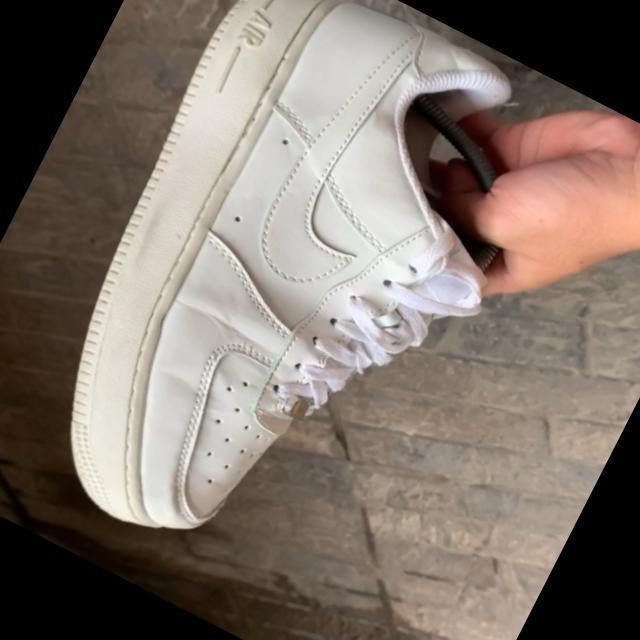nike fake air force: (0, 0, 614, 633)
